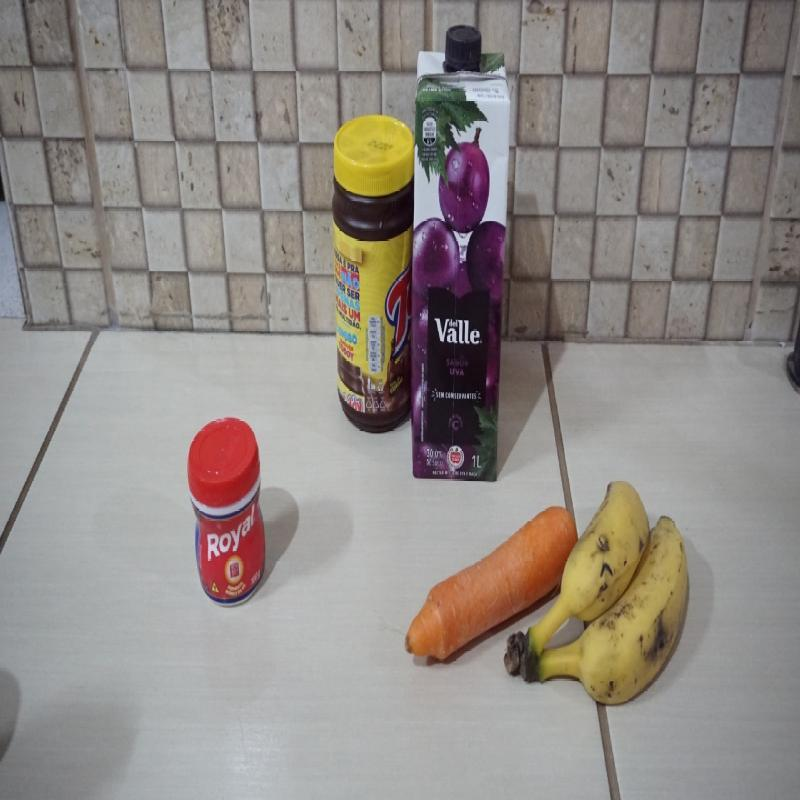Banana: (505, 481, 689, 706)
Carrot: (405, 506, 577, 660)
Chocolate Powder: (323, 113, 414, 438)
Yeast: (188, 418, 268, 604)
